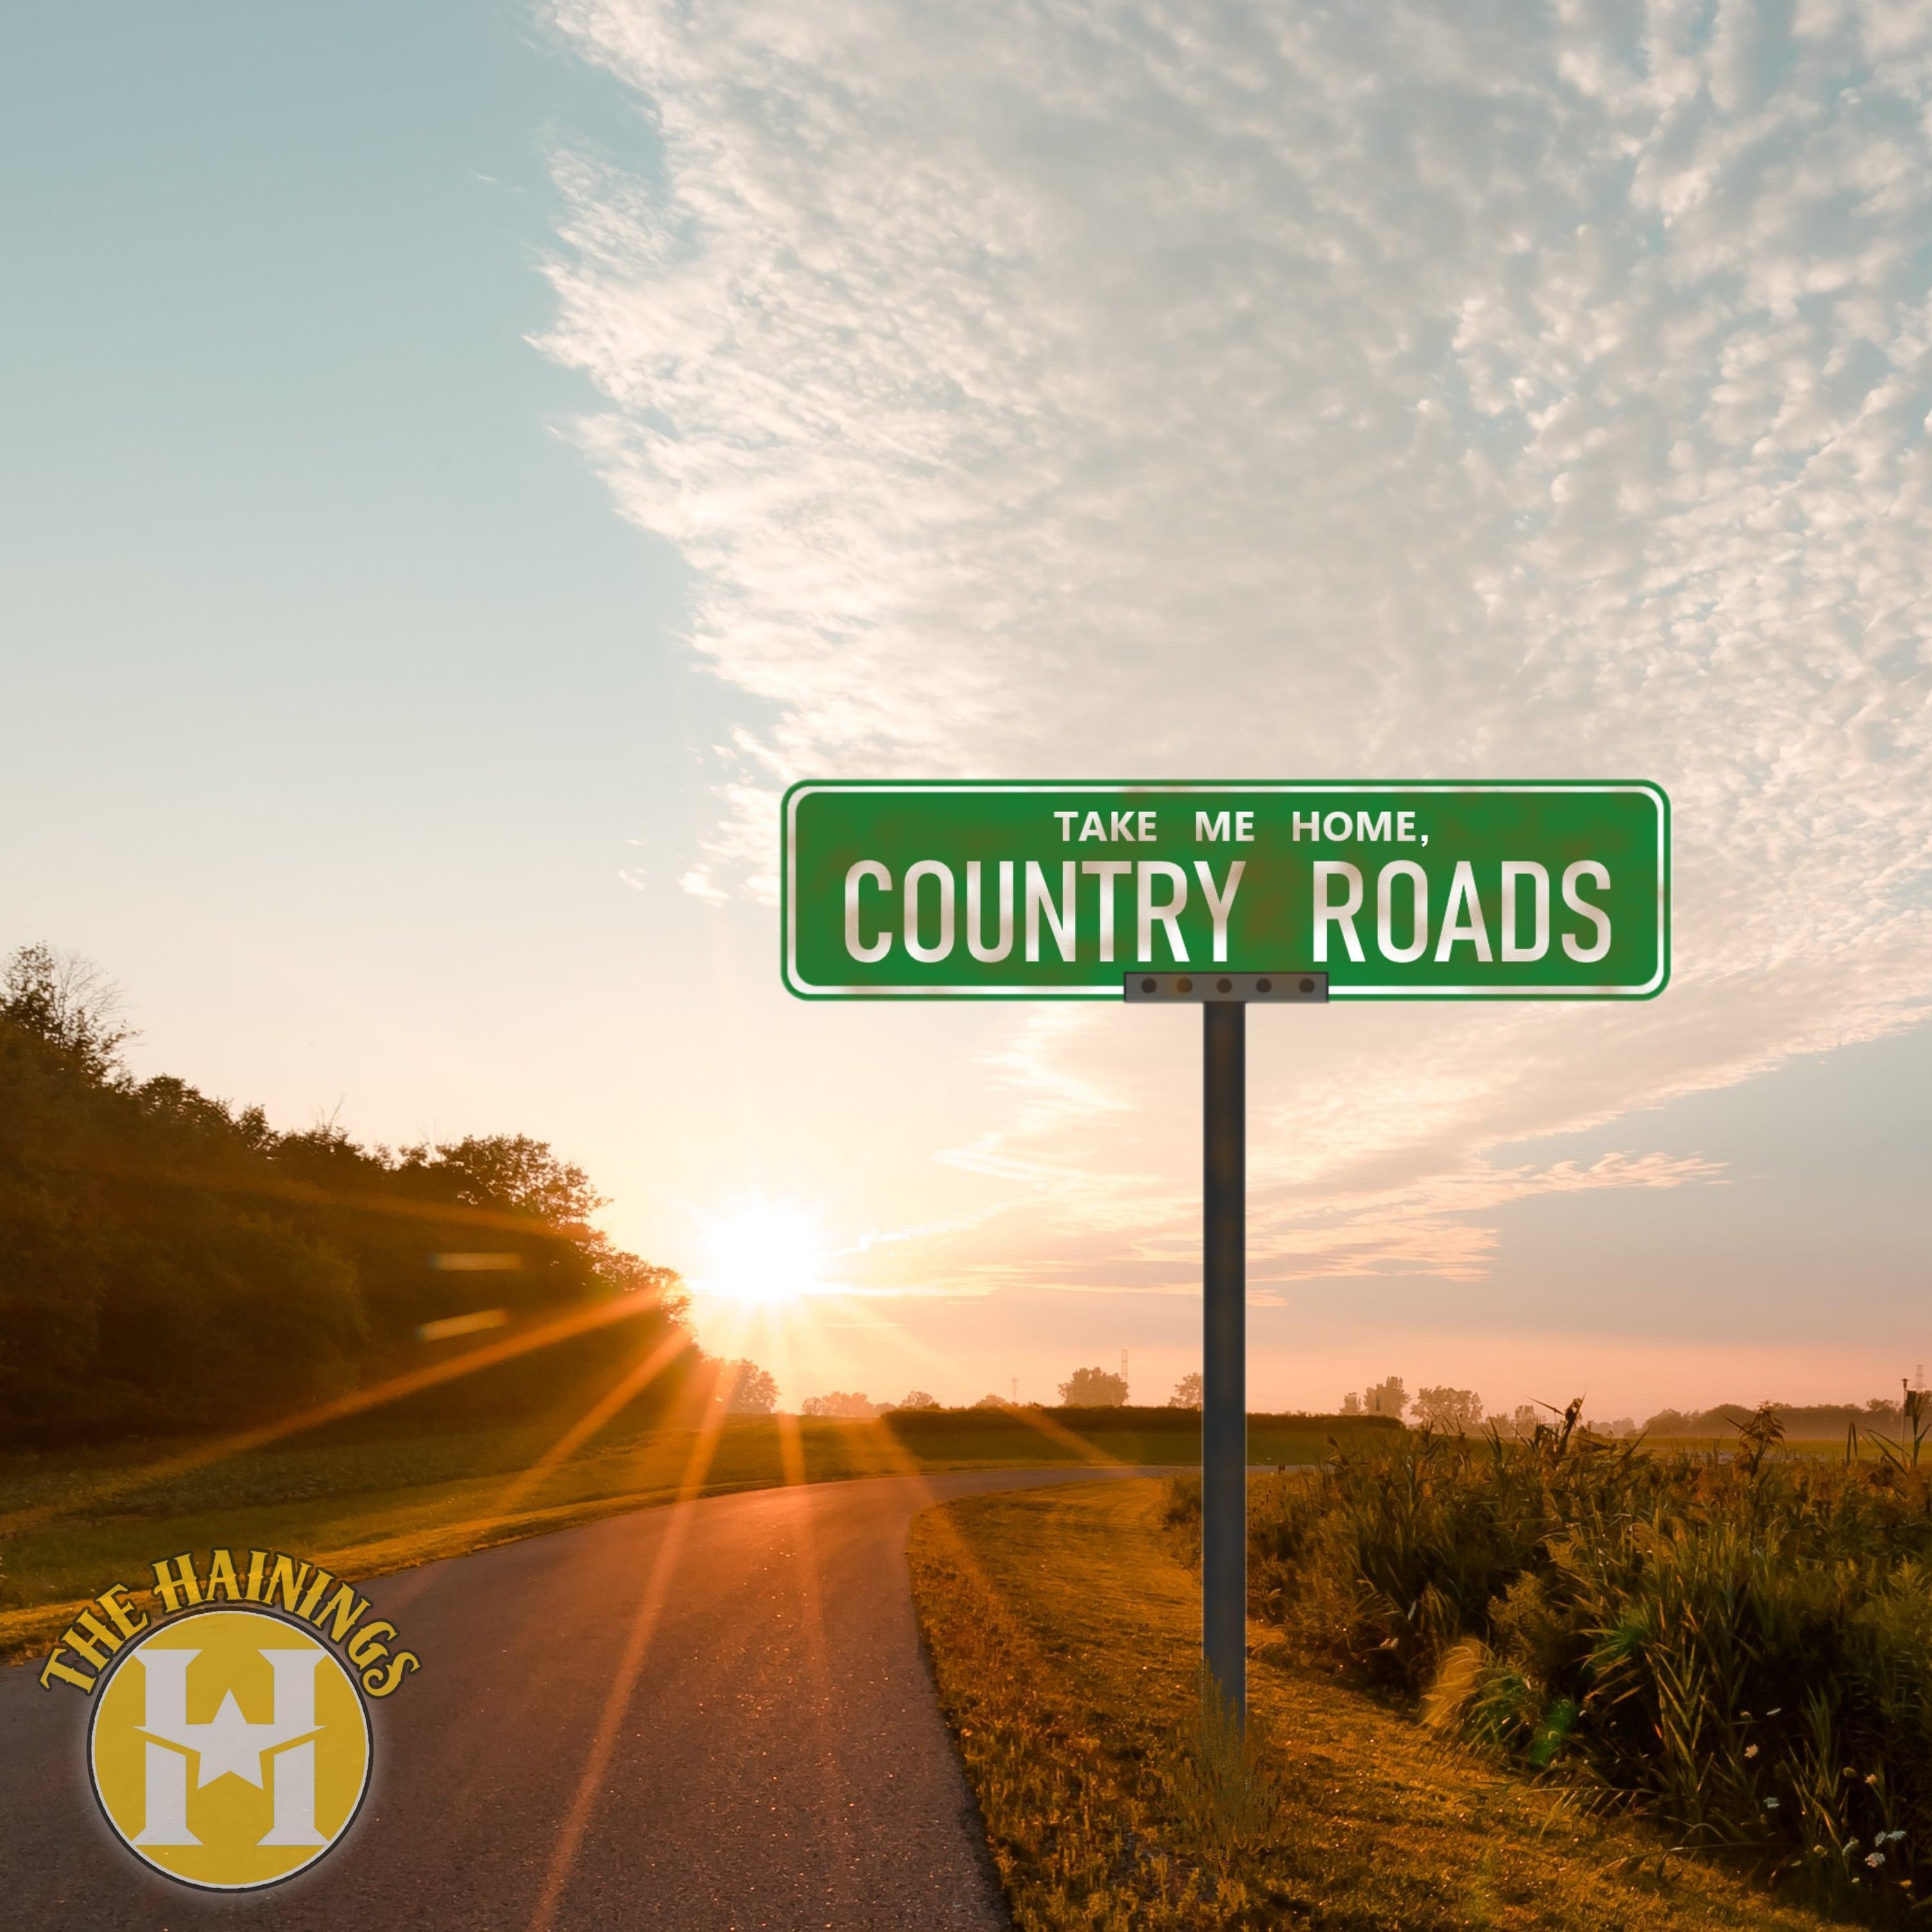language: (789, 786, 1660, 991)
streetPlate: (1196, 993, 1258, 1762)
